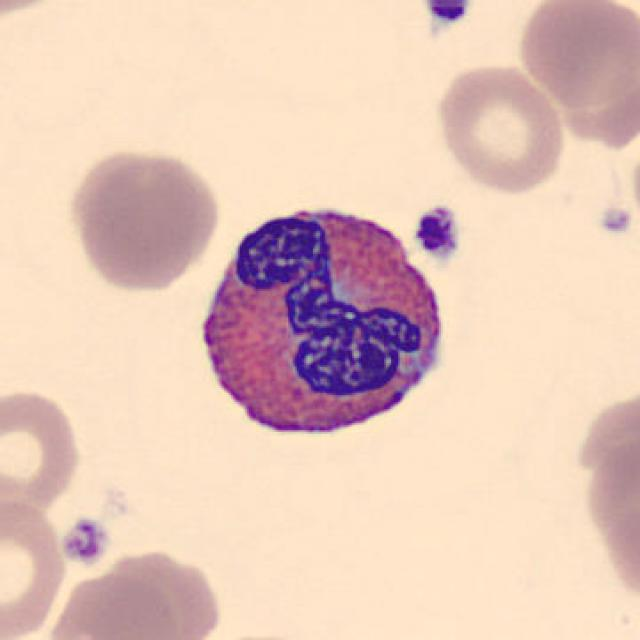Eosinophil: (187, 185, 457, 462)
Platelets: (411, 203, 464, 264), (57, 513, 112, 570), (420, 0, 474, 28), (596, 203, 636, 240)
RBC: (62, 142, 224, 292), (430, 60, 569, 196), (512, 0, 638, 132), (576, 400, 638, 621), (98, 545, 226, 640), (0, 382, 85, 513), (42, 567, 183, 640), (0, 493, 69, 640), (0, 0, 80, 21)
